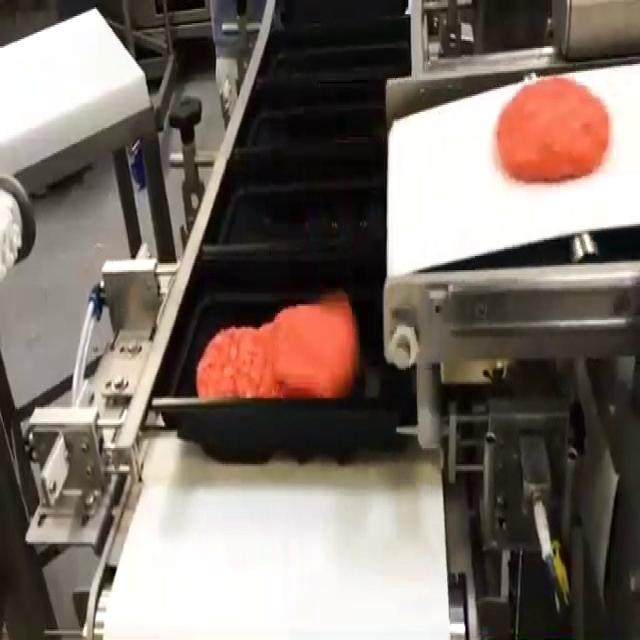hamburguer: (496, 76, 610, 181)
